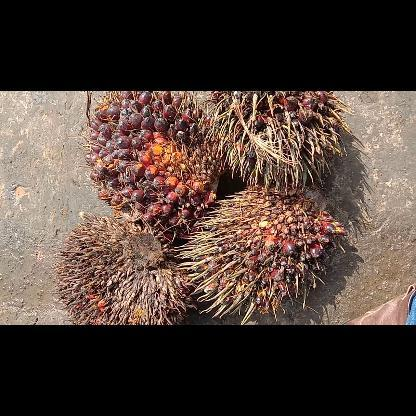Kurang masak: (210, 91, 350, 189)
TBS abnormal: (171, 183, 349, 313), (56, 216, 186, 324)
Terlalu masak: (81, 91, 222, 225)
